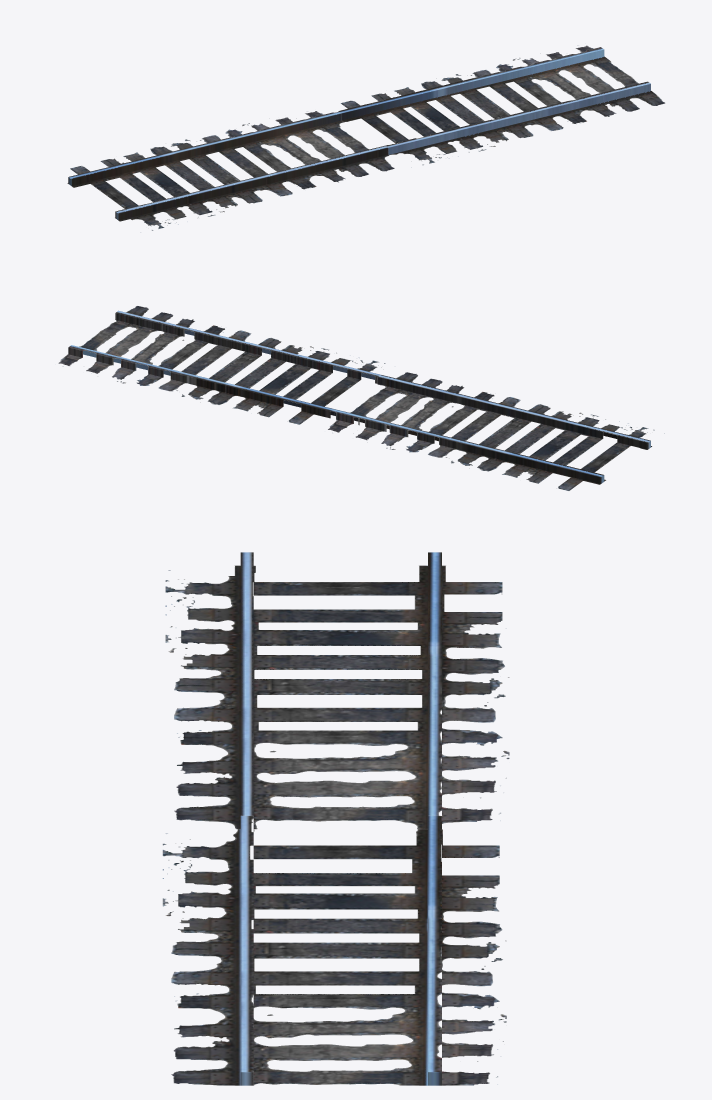
File: rels.dae
3 renders of one model, top to bottom at view 1: azimuth 30°, elevation 25°; view 2: azimuth 150°, elevation 25°; view 3: azimuth 270°, elevation 25°, orthographic. The views are drawn at different scales.
Parts seen in each view (by area): view 1: SketchUp; view 2: SketchUp; view 3: SketchUp.
Boxes of the visible parts, <box> form: SketchUp: <box>67,43,665,232</box>; SketchUp: <box>55,306,664,490</box>; SketchUp: <box>162,552,509,1085</box>.
Bounding box in the file's own units: 78.31 × 38.52 × 0.9449.
